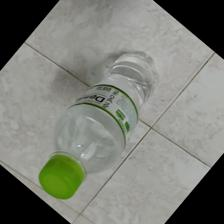Dasani: (38, 49, 161, 203)
